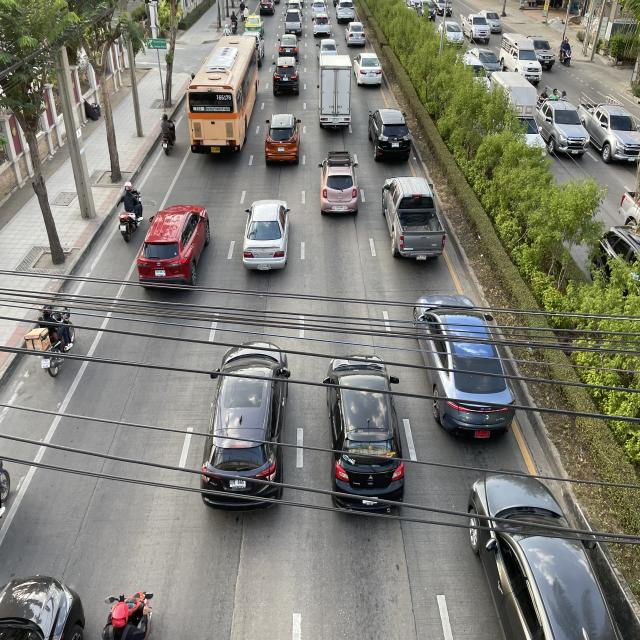bike: (24, 287, 76, 383), (116, 167, 147, 248), (154, 108, 179, 157)
bus: (185, 34, 259, 162)
truck: (317, 51, 353, 133)
